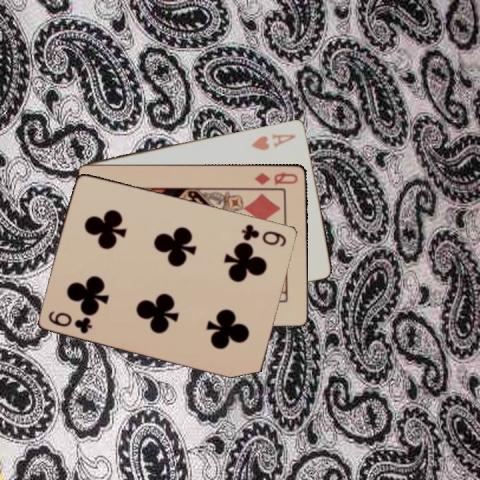6c: (239, 220, 288, 248), (45, 307, 94, 335)
Ah: (248, 130, 297, 151)
Qd: (252, 169, 299, 187)
